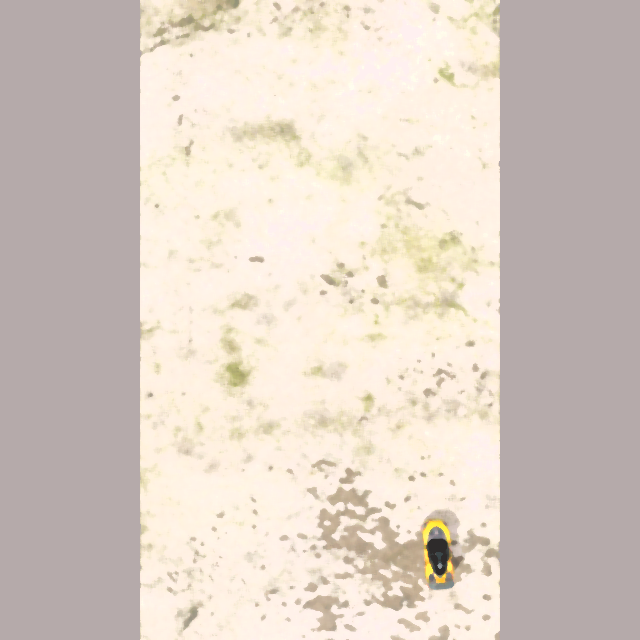car: (418, 517, 457, 592)
